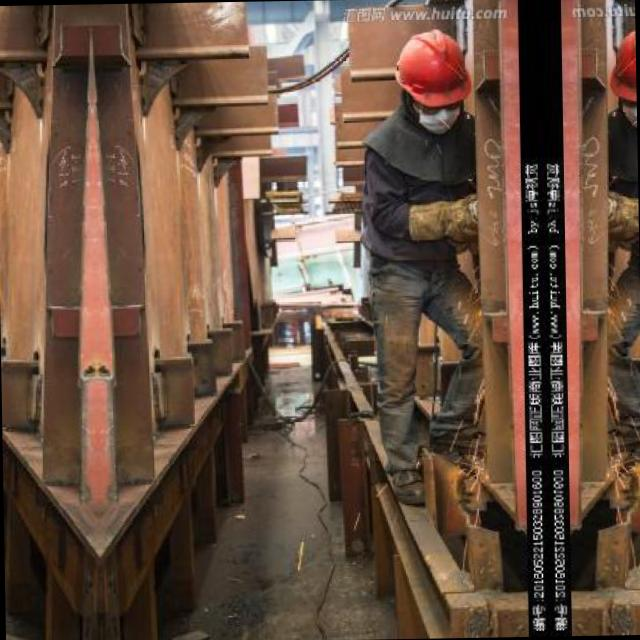helmet: (386, 25, 474, 137), (604, 22, 634, 135)
